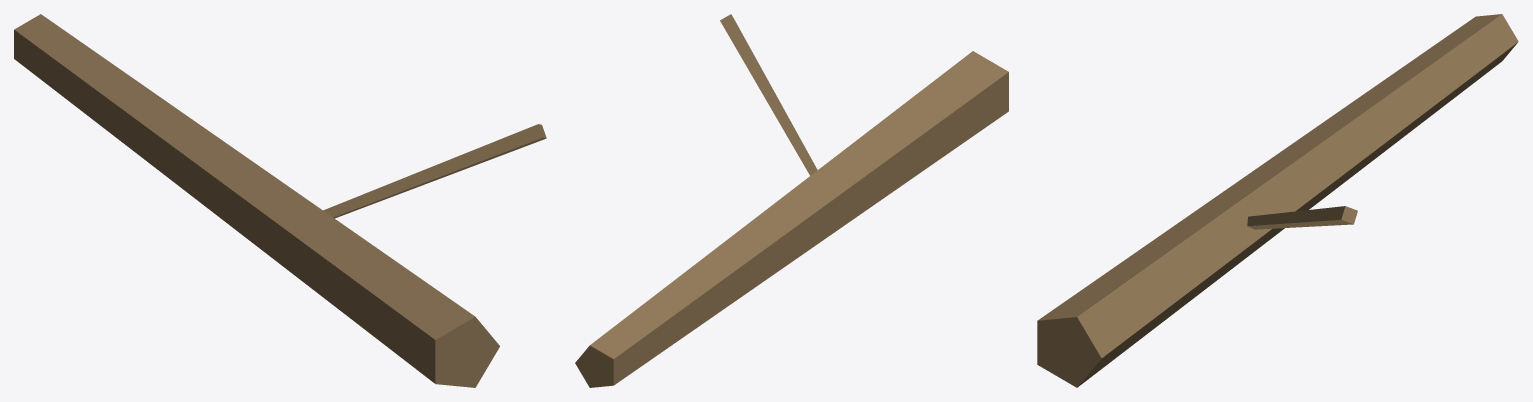
File: dead_tree_low.glb
3 views of the same model, side by side, from view 1: azimuth 30°, elevation 25°; view 2: azimuth 150°, elevation 25°; view 3: azimuth 330°, elevation 25° (orthographic). The views are drawn at different scales.
Visible parts, largest first — view 1: geometry_0; view 2: geometry_0; view 3: geometry_0.
Part boxes in pixels (x1,y1,x2,y2): geometry_0: (14,14,546,387); geometry_0: (575,14,1008,387); geometry_0: (1037,14,1518,387).
Size of the model in its own units: 0.7195 by 0.4726 by 2.5.
